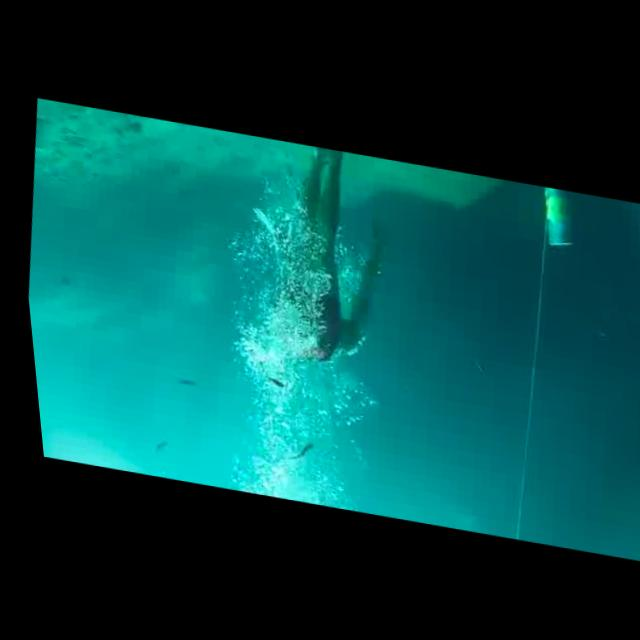human: (216, 133, 405, 386)
